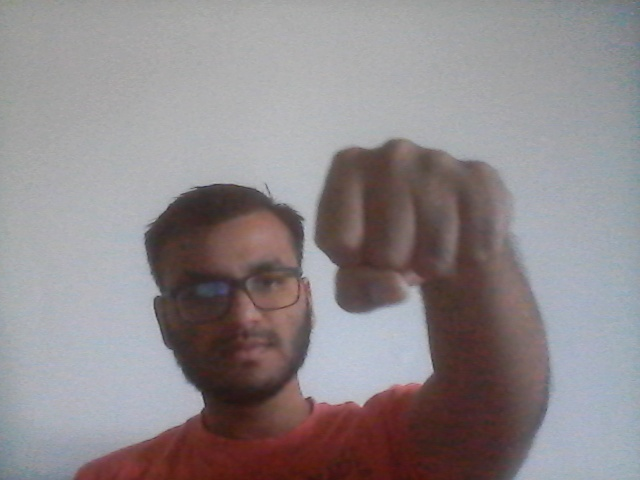Thanks: (314, 133, 520, 315)
